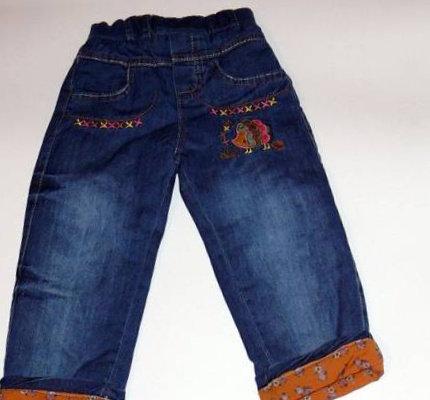Pants: (0, 1, 376, 400)
